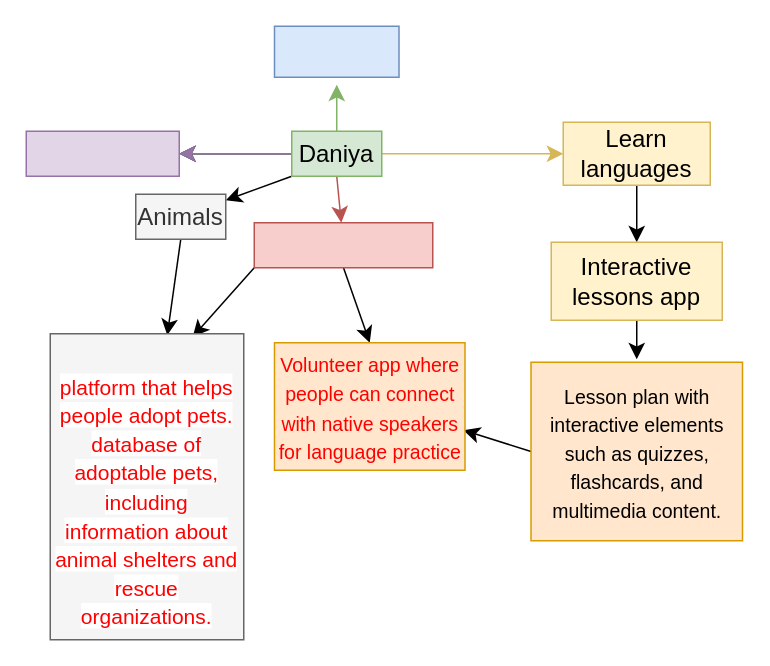
This 770x666 diagram has some shape labels left out. The shapes that lost their labels are listed below. From the top down, each one's centre as x and y in pixels, then its label:
At point 336,51: "Travel".
At point 102,153: "Exercises".
At point 343,244: "Volunteering".
